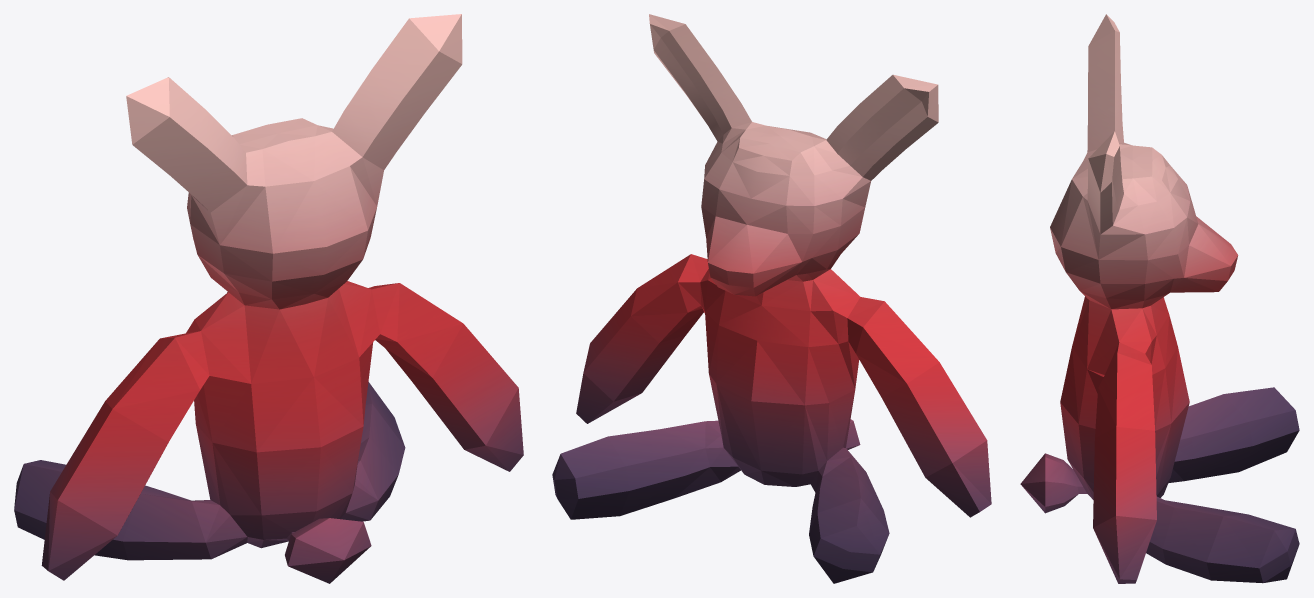
Rendered from SM_rabbit.fbx.
3 renders of one model, left to right at view 1: azimuth 30°, elevation 25°; view 2: azimuth 150°, elevation 25°; view 3: azimuth 270°, elevation 25°, orthographic. The views are drawn at different scales.
Visible parts, largest first — view 1: rabbit; view 2: rabbit; view 3: rabbit.
Part boxes in pixels (x1,y1,x2,y2): rabbit: (14, 14, 523, 583); rabbit: (552, 14, 991, 583); rabbit: (1020, 14, 1299, 583).
Bounding box in the file's own units: 617 × 643 × 368.
